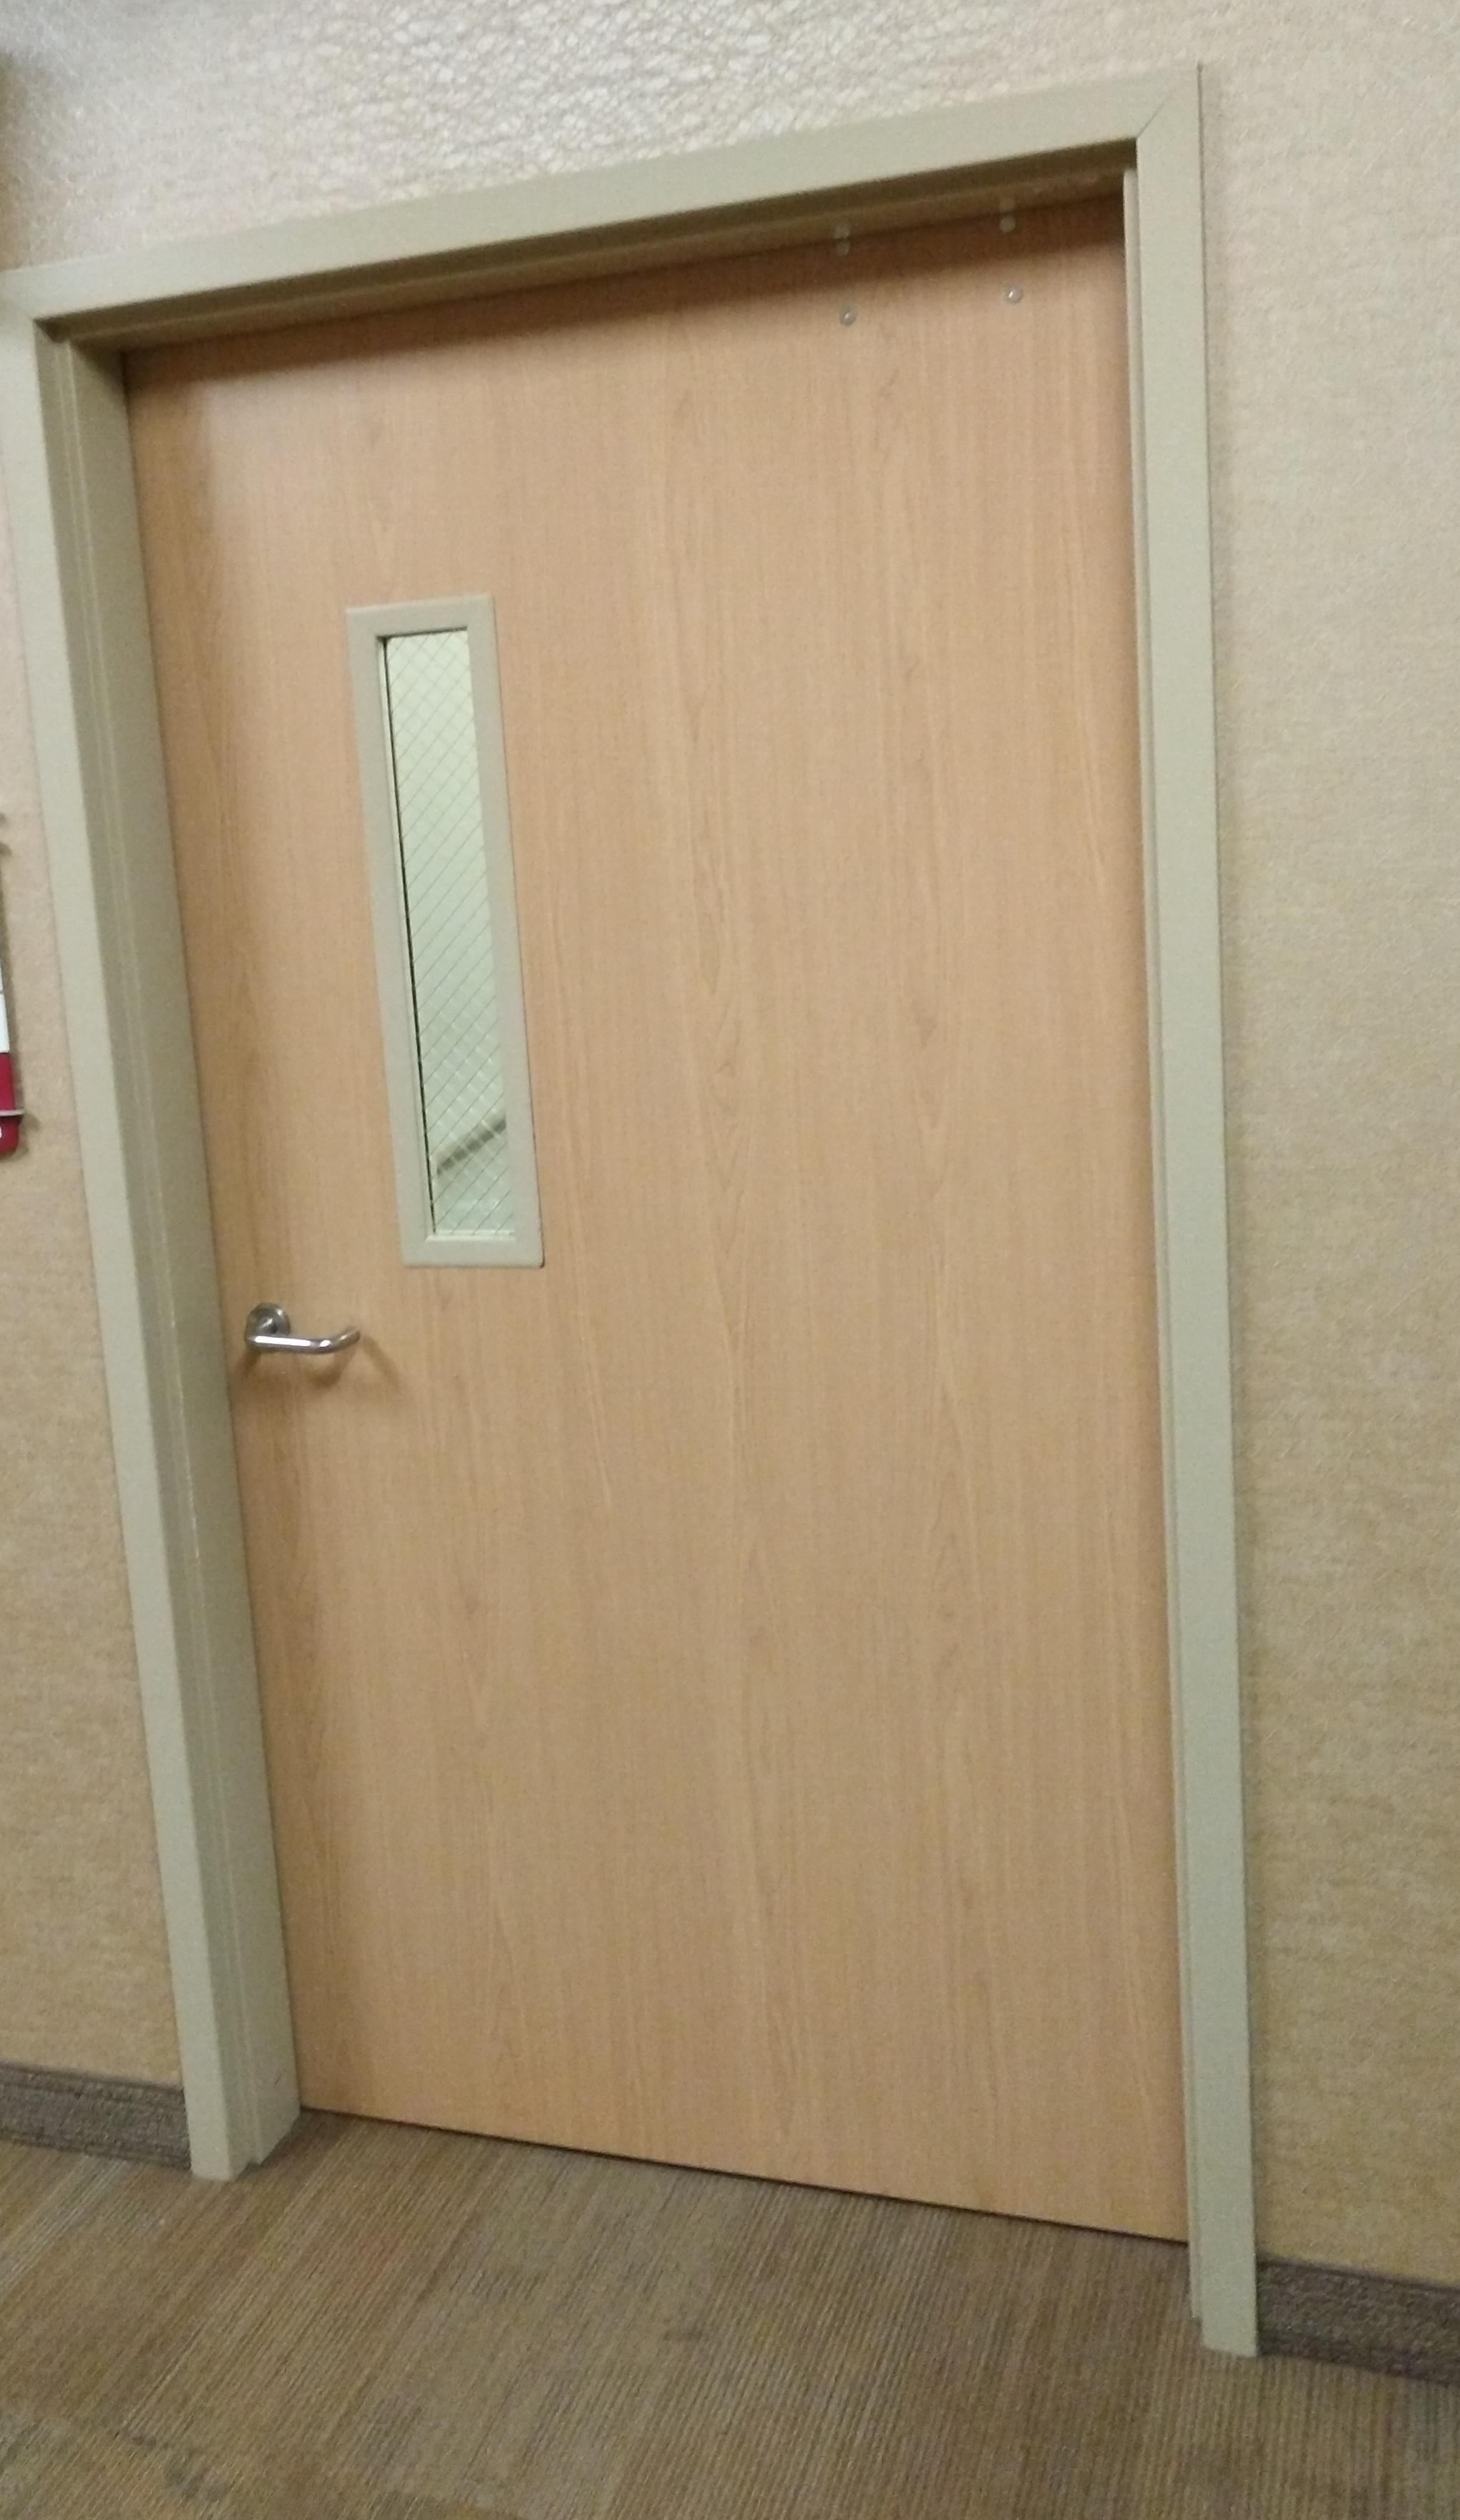handle: (242, 1291, 356, 1415)
